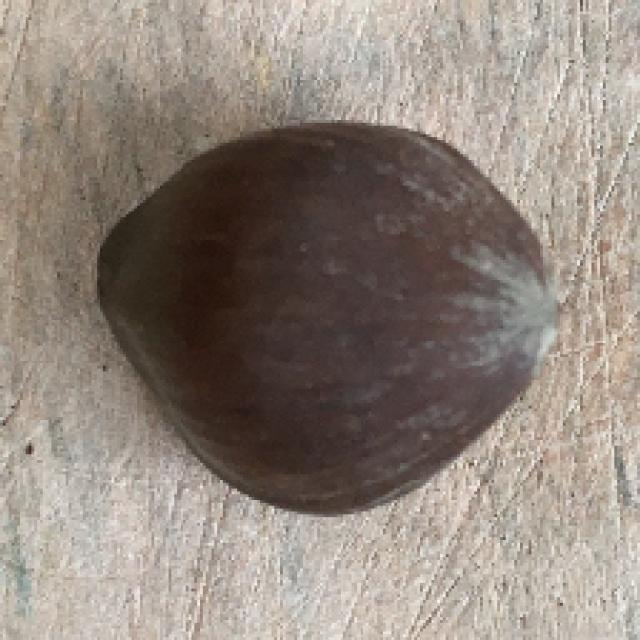damagedHazelnut: (86, 124, 554, 515)
